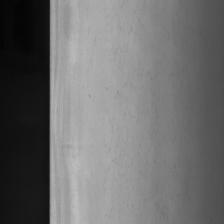silk_spot: (96, 12, 154, 151)
